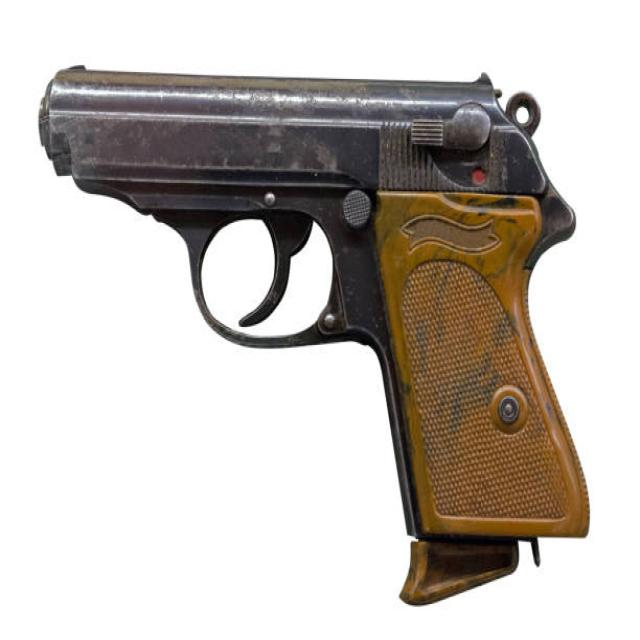pistol: (31, 62, 596, 615)
